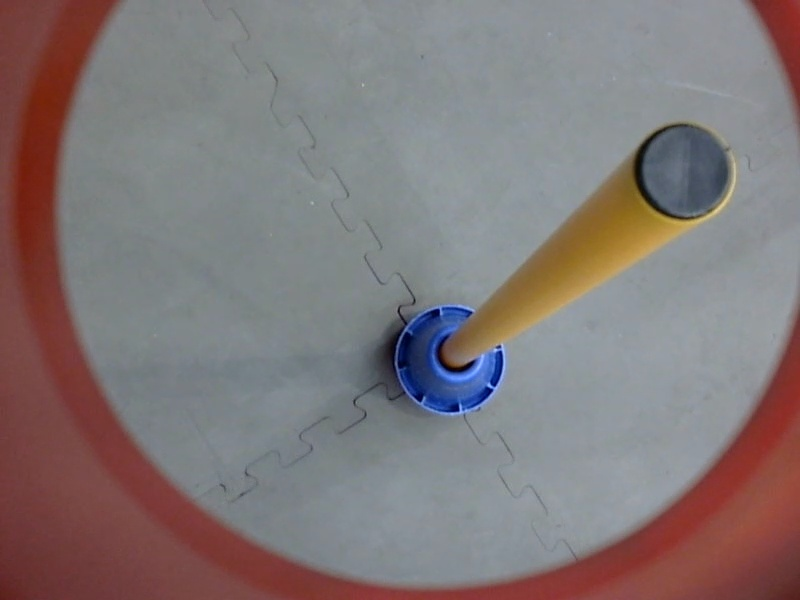tip: (628, 115, 742, 230)
